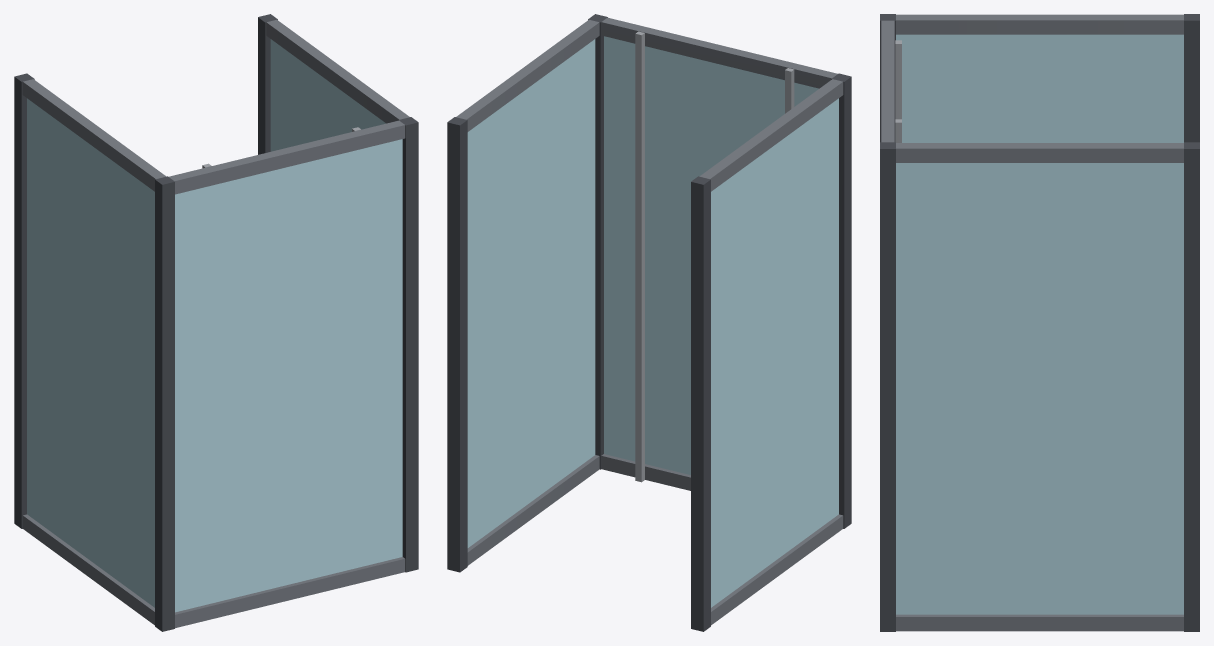
Rendered from elevator_shaft_frame_01.glb.
3 views of the same model, side by side, from view 1: azimuth 30°, elevation 25°; view 2: azimuth 150°, elevation 25°; view 3: azimuth 270°, elevation 25° (orthographic). The views are drawn at different scales.
Parts seen in each view (by area): view 1: elevator_shaft_frame_01_glass, elevator_shaft_frame_01_mesh; view 2: elevator_shaft_frame_01_glass, elevator_shaft_frame_01_mesh; view 3: elevator_shaft_frame_01_glass, elevator_shaft_frame_01_mesh.
Part boxes in pixels (<box>): elevator_shaft_frame_01_glass: <box>27,39,402,612</box>; elevator_shaft_frame_01_mesh: <box>14,14,418,631</box>; elevator_shaft_frame_01_glass: <box>467,36,838,607</box>; elevator_shaft_frame_01_mesh: <box>447,14,851,631</box>; elevator_shaft_frame_01_glass: <box>896,34,1183,614</box>; elevator_shaft_frame_01_mesh: <box>880,14,1199,631</box>.
Size of the model in its own units: 2.4 by 4 by 2.4.
Materials: 2 (2 with a texture image).
